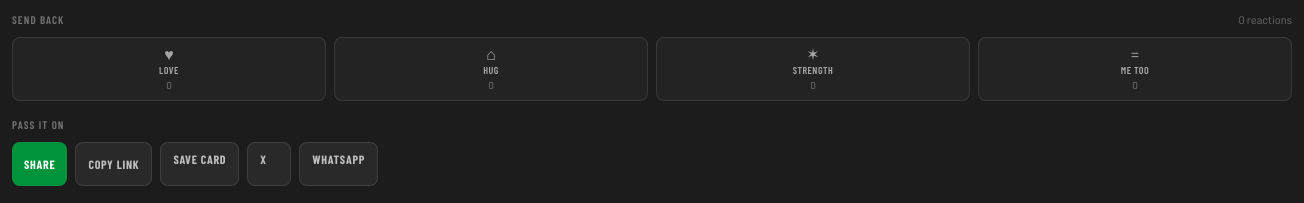
Test: NoteActions › posts a reaction, updates the count, and disables the button
Click the button with aria-label "Love this": (169, 69) [12,36,326,101]
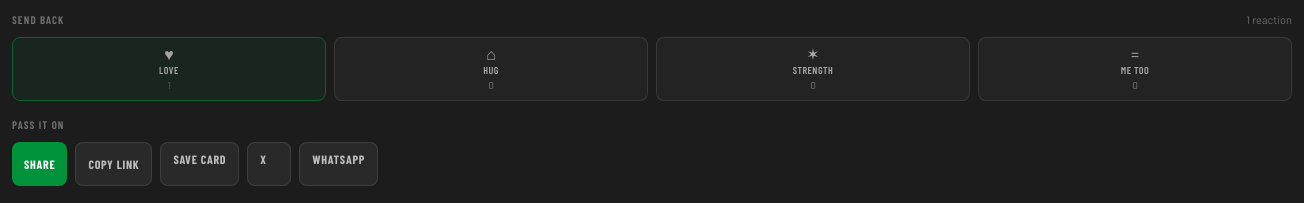
Now the button with aria-label "Love this, 1" is disabled, box [12,36,326,101]
